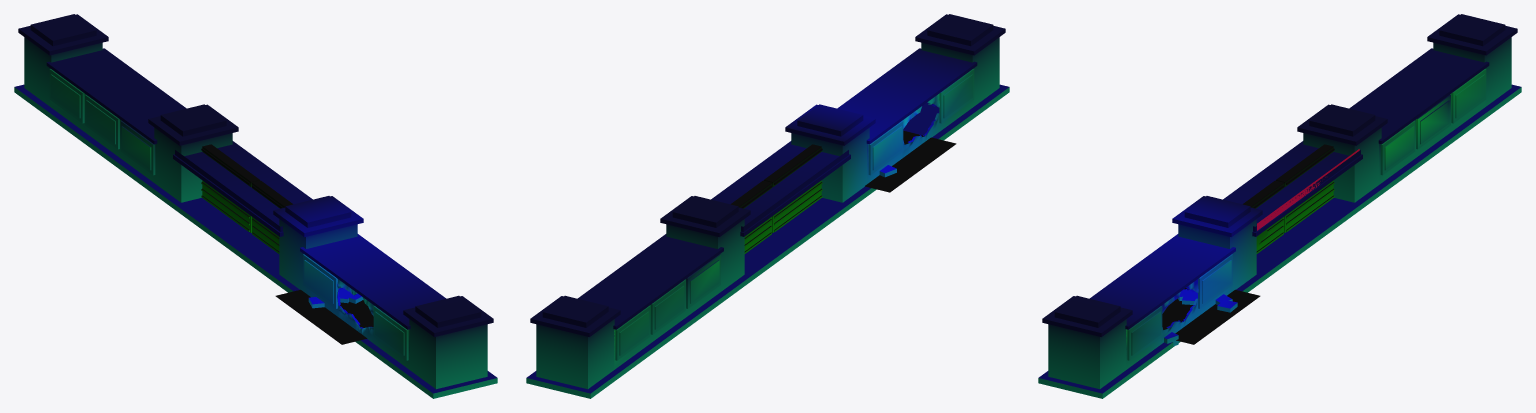
Rendered from d_lightgate_damaged.glb.
The picture shows the model from 3 angles, left to right: view 1: azimuth 30°, elevation 25°; view 2: azimuth 150°, elevation 25°; view 3: azimuth 330°, elevation 25°; orthographic projection.
Visible parts, largest first — view 1: lod0, door_l, door_r; view 2: lod0, door_r, door_l; view 3: lod0, door_l, door_r.
Boxes of the visible parts, left/top/right/bottom form: lod0: left=14, top=14, right=497, bottom=398; door_l: left=201, top=144, right=259, bottom=232; door_r: left=252, top=180, right=292, bottom=253; lod0: left=526, top=14, right=1009, bottom=398; door_r: left=764, top=144, right=822, bottom=232; door_l: left=731, top=180, right=771, bottom=253; lod0: left=1038, top=14, right=1521, bottom=398; door_l: left=1276, top=144, right=1334, bottom=232; door_r: left=1243, top=180, right=1283, bottom=253.
Size of what is drawn, in the model's own units: 8 by 5.52 by 56.4.
